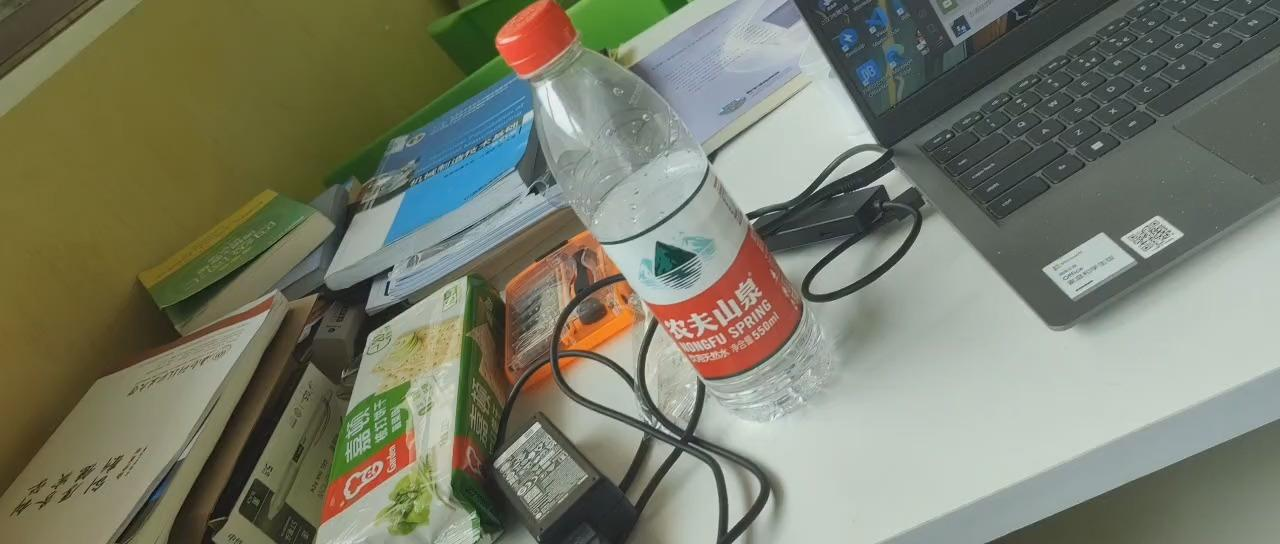BIODEGRADABLE: (491, 0, 830, 418)
